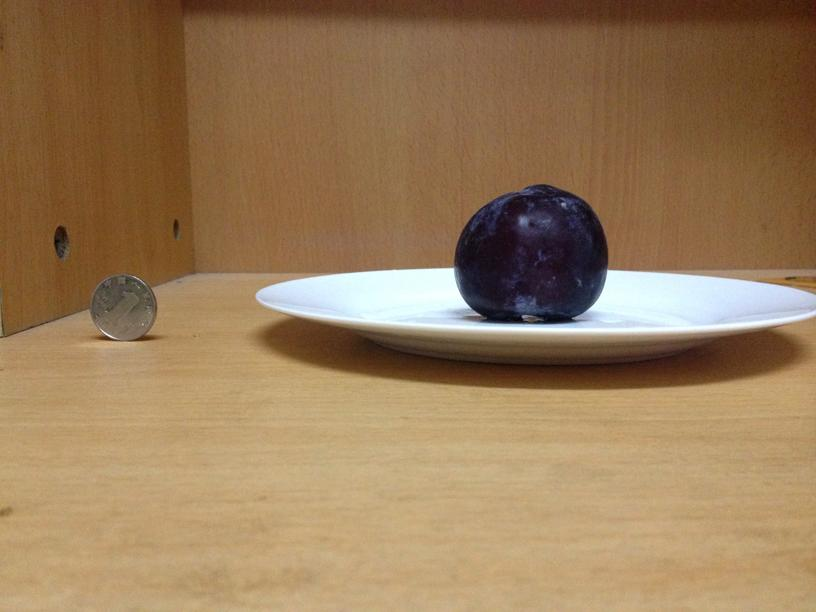coin: (90, 274, 159, 340)
plum: (450, 178, 609, 320)
